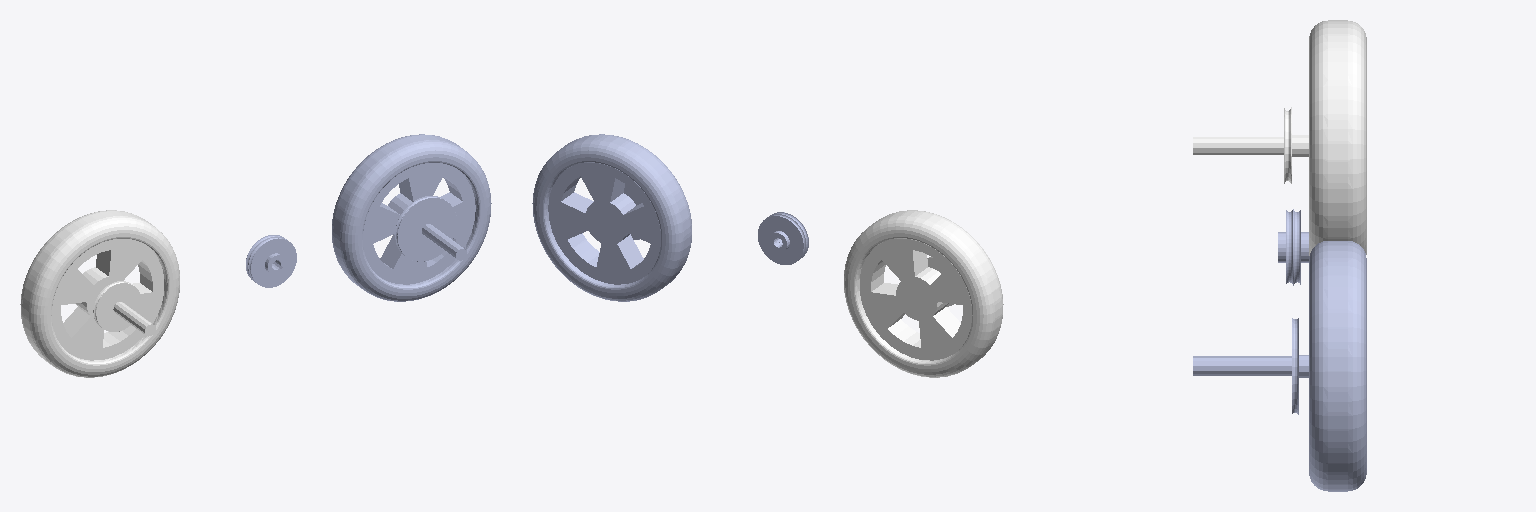
URDF robot description (Анимация тест (негробот)):
<?xml version="1.0" encoding="utf-8"?>
<!-- This URDF was automatically created by SolidWorks to URDF Exporter! Originally created by [author] ([email redacted]) 
     Commit Version: 1.5.1-0-g916b5db  Build Version: 1.5.7152.31018
     For more information, please see http://wiki.ros.org/sw_urdf_exporter -->
<robot
  name="Анимация тест (негробот)">
  <link
    name="base_link">
    <inertial>
      <origin
        xyz="0.046613 0.012157 -0.17439"
        rpy="0 0 0" />
      <mass
        value="0.0011973" />
      <inertia
        ixx="2.7785E-08"
        ixy="-1.8627E-11"
        ixz="1.1961E-11"
        iyy="2.7776E-08"
        iyz="-9.586E-12"
        izz="4.9948E-08" />
    </inertial>
    <visual>
      <origin
        xyz="0 0 0"
        rpy="0 0 0" />
      <geometry>
        <mesh
          filename="package://Анимация тест (негробот)/meshes/base_link.STL" />
      </geometry>
      <material
        name="">
        <color
          rgba="0.79216 0.81961 0.93333 1" />
      </material>
    </visual>
    <collision>
      <origin
        xyz="0 0 0"
        rpy="0 0 0" />
      <geometry>
        <mesh
          filename="package://Анимация тест (негробот)/meshes/base_link.STL" />
      </geometry>
    </collision>
  </link>
  <link
    name="frontleftwheel_Link">
    <inertial>
      <origin
        xyz="0 0.036801 0"
        rpy="0 0 0" />
      <mass
        value="0.034365" />
      <inertia
        ixx="1.0832E-05"
        ixy="-1.3066E-21"
        ixz="1.6941E-21"
        iyy="1.9957E-05"
        iyz="-1.0499E-21"
        izz="1.0832E-05" />
    </inertial>
    <visual>
      <origin
        xyz="0 0 0"
        rpy="0 0 0" />
      <geometry>
        <mesh
          filename="package://Анимация тест (негробот)/meshes/frontleftwheel_Link.STL" />
      </geometry>
      <material
        name="">
        <color
          rgba="0.79216 0.81961 0.93333 1" />
      </material>
    </visual>
    <collision>
      <origin
        xyz="0 0 0"
        rpy="0 0 0" />
      <geometry>
        <mesh
          filename="package://Анимация тест (негробот)/meshes/frontleftwheel_Link.STL" />
      </geometry>
    </collision>
  </link>
  <joint
    name="frontleftwheel_joint"
    type="continuous">
    <origin
      xyz="0.11412 0.14843 0.009649"
      rpy="0 0.57633 0" />
    <parent
      link="base_link" />
    <child
      link="frontleftwheel_Link" />
    <axis
      xyz="0 1 0" />
  </joint>
  <link
    name="reartleftwheel_Link">
    <inertial>
      <origin
        xyz="0 0 0"
        rpy="0 0 0" />
      <mass
        value="0.034365" />
      <inertia
        ixx="0"
        ixy="0"
        ixz="0"
        iyy="0"
        iyz="0"
        izz="0" />
    </inertial>
    <visual>
      <origin
        xyz="0 0 0"
        rpy="0 0 0" />
      <geometry>
        <mesh
          filename="package://Анимация тест (негробот)/meshes/reartleftwheel_Link.STL" />
      </geometry>
      <material
        name="">
        <color
          rgba="1 1 1 1" />
      </material>
    </visual>
    <collision>
      <origin
        xyz="0 0 0"
        rpy="0 0 0" />
      <geometry>
        <mesh
          filename="package://Анимация тест (негробот)/meshes/reartleftwheel_Link.STL" />
      </geometry>
    </collision>
  </link>
  <joint
    name="reartleftwheel_Joint"
    type="continuous">
    <origin
      xyz="-0.020877 0.14843 0.009649"
      rpy="0 -0.68995 0" />
    <parent
      link="base_link" />
    <child
      link="reartleftwheel_Link" />
    <axis
      xyz="0 1 0" />
  </joint>
</robot>

--- What the picture shows (computed from the rendered views, not written in the file) ---
Views: 3 orthographic renders of the robot side by side, from view 1: azimuth 30°, elevation 25°; view 2: azimuth 150°, elevation 25°; view 3: azimuth 270°, elevation 25°.
Robot: Анимация тест (негробот) — 3 links, 2 joints (2 continuous); root link base_link; default pose: all joints at 0.
Visible links, largest first — view 1: frontleftwheel_Link, reartleftwheel_Link, base_link; view 2: frontleftwheel_Link, reartleftwheel_Link, base_link; view 3: frontleftwheel_Link, reartleftwheel_Link, base_link.
Boxes of the visible links, x1,y1,x2,y2 form: frontleftwheel_Link: (332,134,491,301); reartleftwheel_Link: (20,210,179,377); base_link: (246,235,296,287); frontleftwheel_Link: (532,134,691,301); reartleftwheel_Link: (844,210,1003,377); base_link: (758,212,808,264); frontleftwheel_Link: (1193,241,1366,491); reartleftwheel_Link: (1193,20,1366,255); base_link: (1278,209,1308,285).
Bounding box of the posed robot: 0.2 × 0.045 × 0.065 m (x, y, z).
3 mesh visuals loaded from 3 distinct referenced files (3 binary STL).